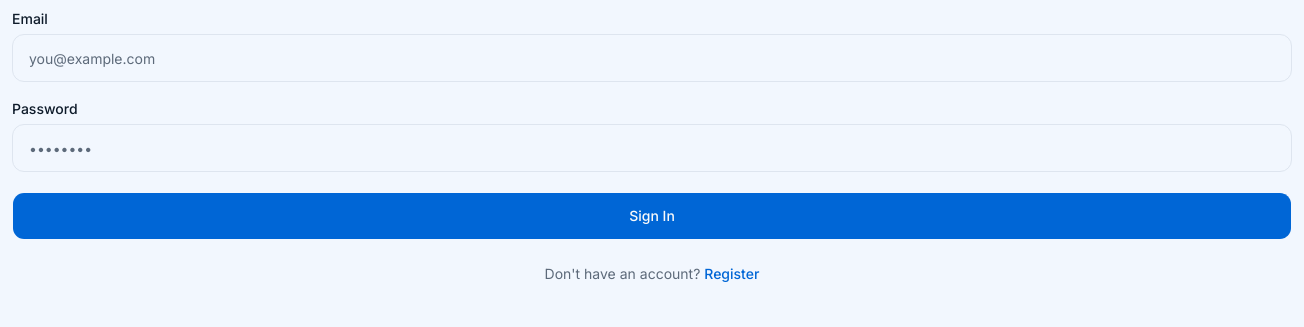
it: LoginForm › shows schema errors for an invalid email
Step 1. Type "not-an-email" into the field labelled "Email" → (652, 58), box [12, 34, 1292, 82]
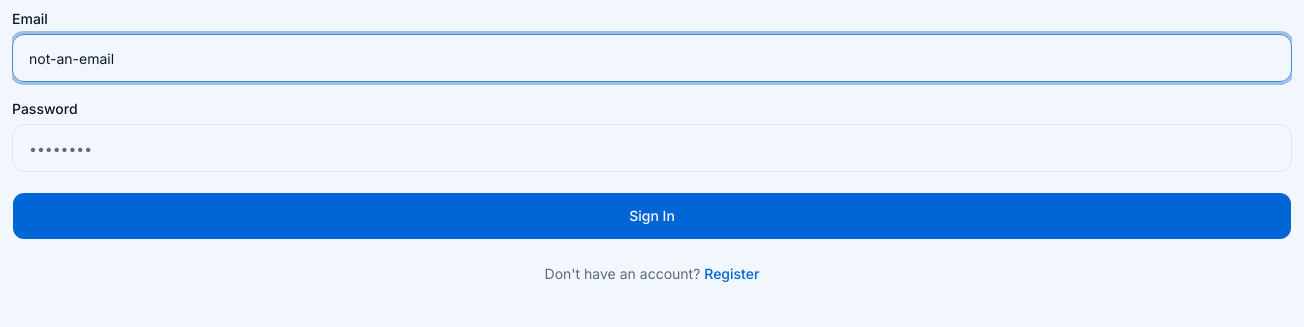
Step 2. Click the button "Sign In" → click(652, 216), box [12, 192, 1292, 240]
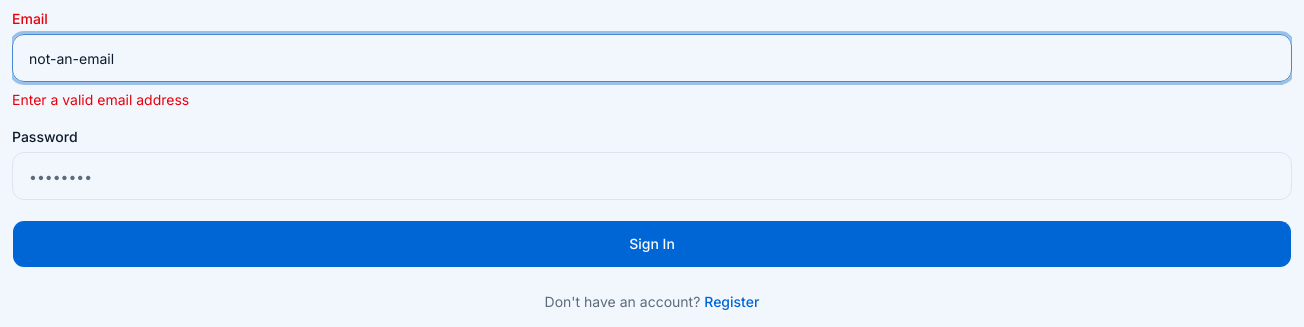
Now the text "Enter a valid email address" is shown, box [12, 91, 189, 108]
